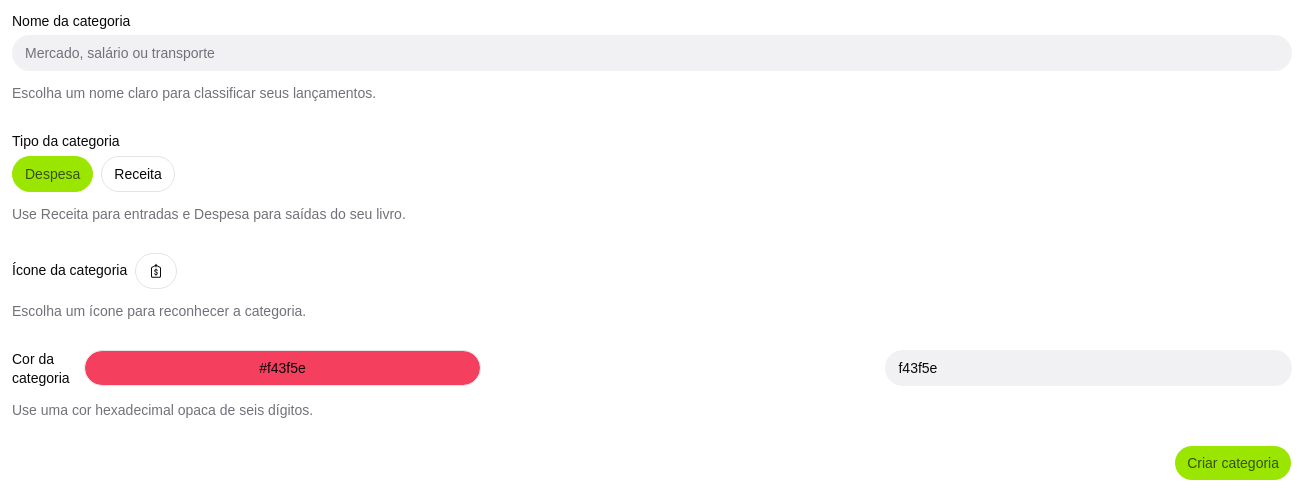
Scenario: CategoryForm › blocks a create mutation when the color is invalid
Type "Moradia" into the field labelled "Nome da categoria".
click(652, 53); type("Moradia")  # box left=12, top=35, right=1292, bottom=71
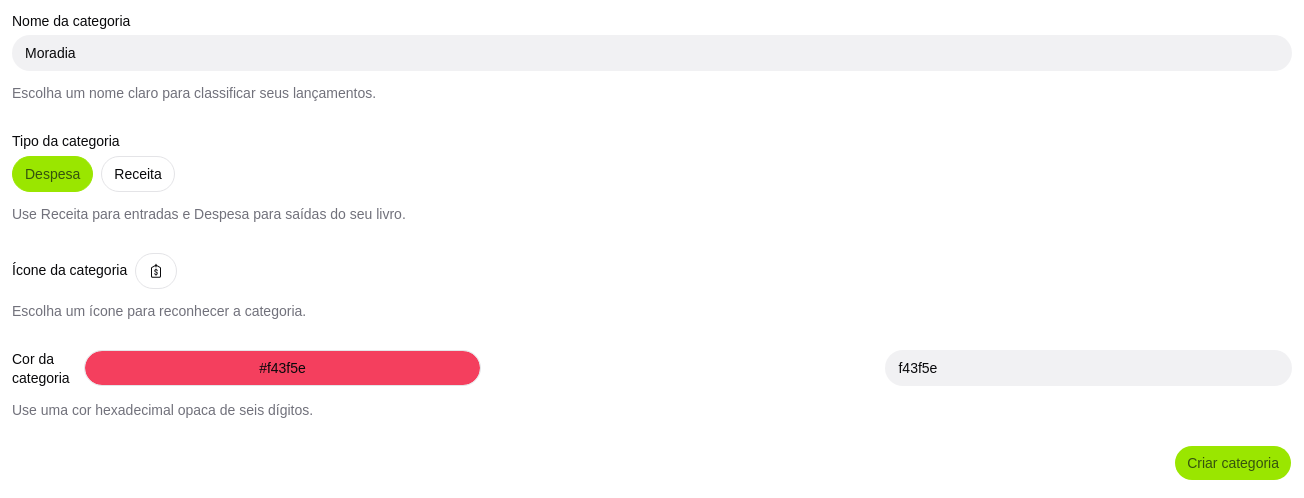
Replace the text in the field labelled "Cor da categoria" with "#abc" at [1089, 368], box left=886, top=350, right=1292, bottom=386
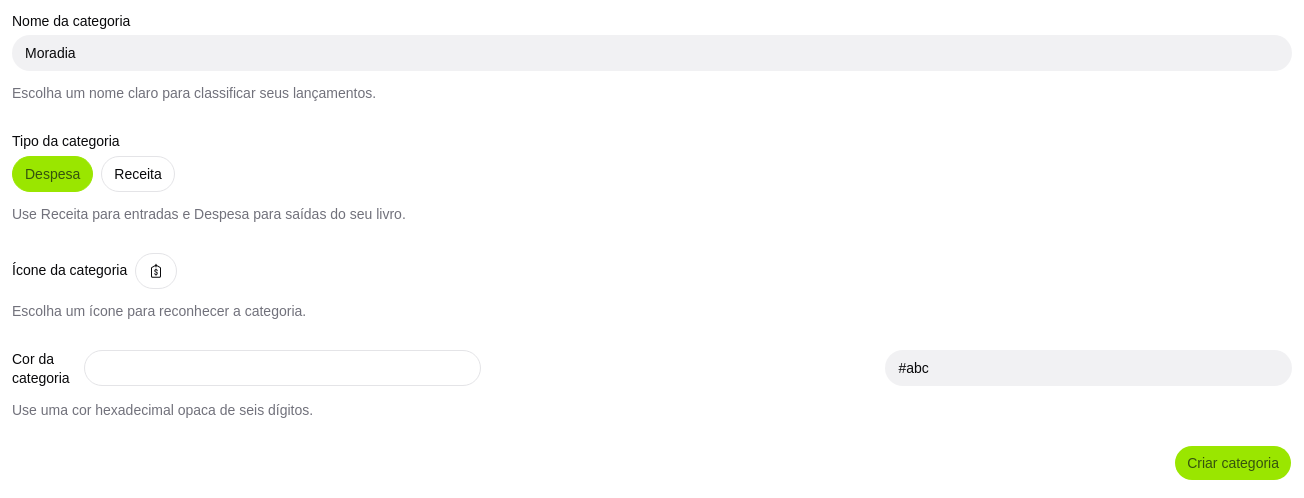
Click the button "Criar categoria".
click(1233, 463)  # box left=1174, top=445, right=1292, bottom=481
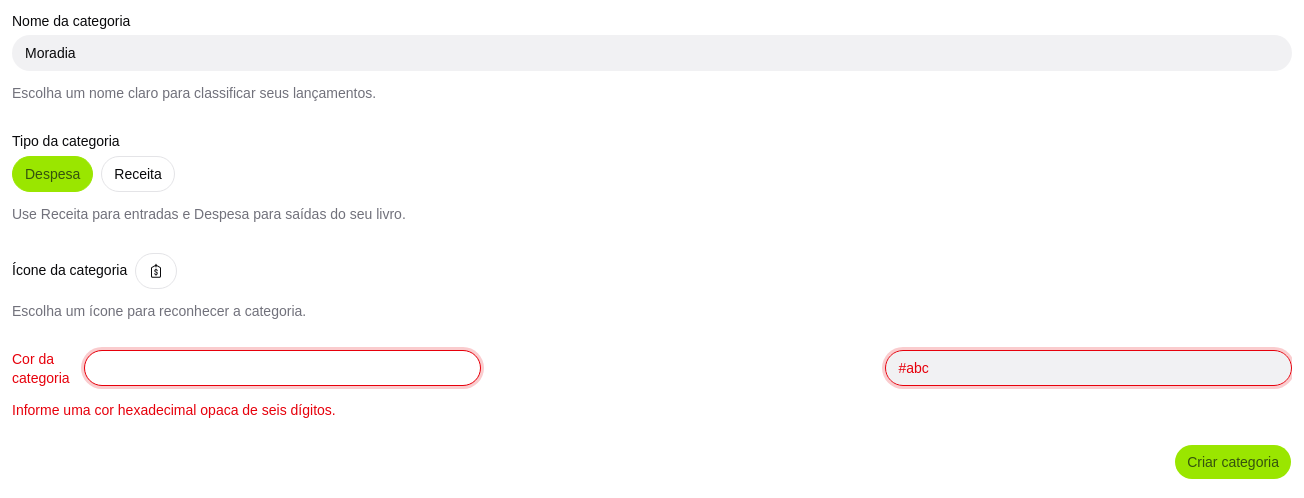
Expected: the text "Informe uma cor hexadecimal opaca de seis dígitos." is shown, left=12, top=402, right=336, bottom=418
